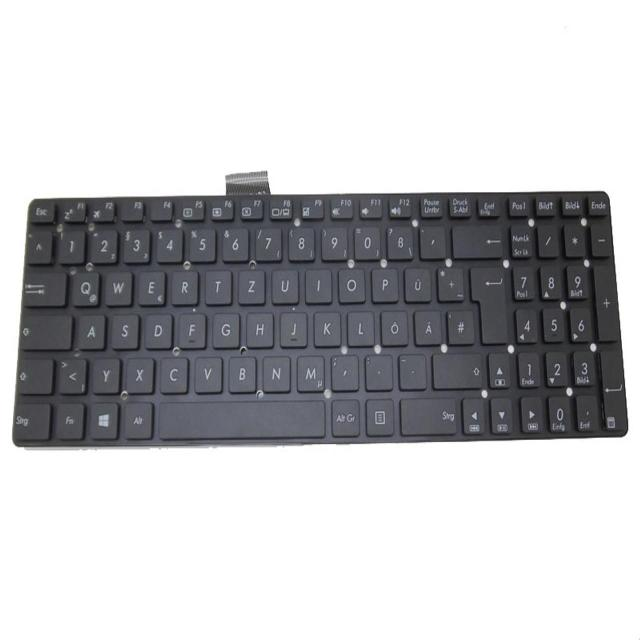0: (353, 223, 380, 258)
1: (56, 226, 84, 264)
2: (87, 227, 117, 263)
3: (121, 226, 150, 262)
4: (154, 226, 182, 262)
5: (187, 226, 215, 261)
6: (220, 225, 248, 261)
7: (253, 225, 282, 261)
8: (286, 225, 314, 261)
9: (319, 224, 347, 259)
a: (75, 312, 105, 348)
accent: (418, 223, 444, 258)
ae: (413, 307, 441, 345)
alt-left: (123, 399, 153, 438)
altgr-right: (330, 397, 360, 435)
b: (226, 354, 256, 392)
c: (158, 354, 189, 393)
caret: (25, 229, 52, 263)
comma: (330, 352, 359, 390)
d: (143, 310, 171, 348)
del: (451, 223, 502, 257)
e: (136, 268, 165, 304)
enter: (469, 264, 507, 344)
f: (177, 310, 205, 348)
g: (210, 309, 239, 347)
h: (245, 309, 273, 347)
hash: (445, 307, 474, 343)
i: (303, 265, 331, 302)
j: (278, 307, 307, 346)
k: (312, 308, 340, 345)
keyboard: (9, 189, 631, 453)
l: (345, 308, 373, 346)
less: (56, 356, 86, 394)
m: (295, 352, 325, 391)
minus: (396, 351, 426, 389)
n: (261, 352, 291, 391)
o: (336, 265, 364, 302)
oe: (379, 307, 407, 345)
p: (370, 266, 398, 302)
plus: (435, 264, 463, 301)
point: (364, 352, 392, 389)
q: (69, 268, 99, 305)
r: (170, 267, 198, 304)
s: (109, 311, 139, 349)
shift-left: (15, 356, 52, 393)
shift-lock: (19, 311, 71, 349)
shift-right: (431, 349, 481, 388)
space: (158, 398, 325, 438)
ss: (385, 224, 413, 259)
strg-left: (11, 401, 49, 441)
strg-right: (399, 395, 459, 435)
t: (203, 267, 231, 303)
tab: (23, 269, 66, 306)
u: (270, 266, 299, 303)
ue: (403, 265, 431, 301)
v: (192, 353, 222, 392)
w: (102, 268, 132, 306)
x: (124, 354, 154, 392)
y: (90, 355, 119, 393)
z: (236, 267, 264, 303)
